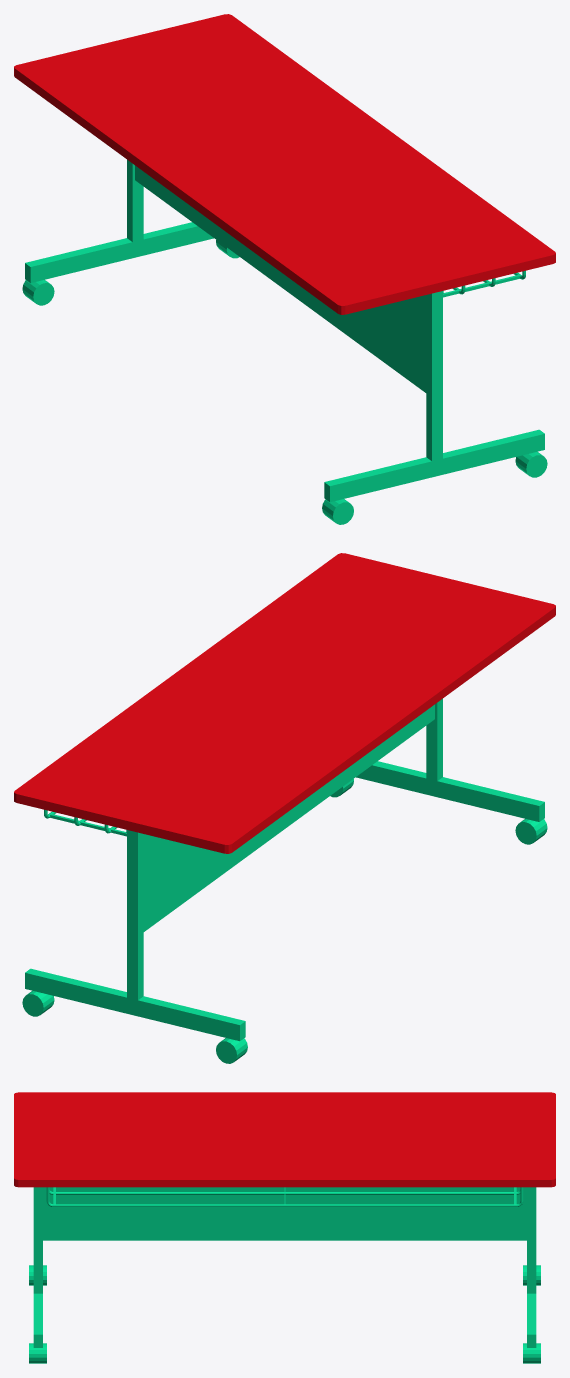
The model's file is desk.glb.
3 views of the same model, one above another, from view 1: azimuth 30°, elevation 25°; view 2: azimuth 150°, elevation 25°; view 3: azimuth 270°, elevation 25° (orthographic). The views are drawn at different scales.
Parts seen in each view (by area): view 1: Cube; view 2: Cube; view 3: Cube.
Part boxes in pixels (<box>): Cube: <box>14,14,555,524</box>; Cube: <box>14,553,555,1063</box>; Cube: <box>14,1092,555,1363</box>.
Bounding box in the file's own units: 2 × 2 × 5.24.
